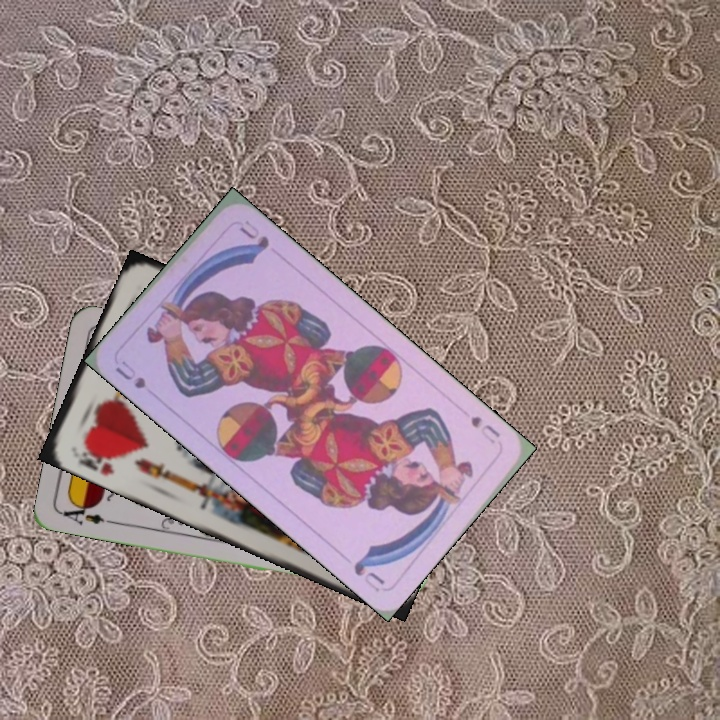EA: (59, 498, 117, 528)
HK: (74, 440, 121, 478)
SU: (111, 356, 148, 392), (466, 411, 503, 447)
